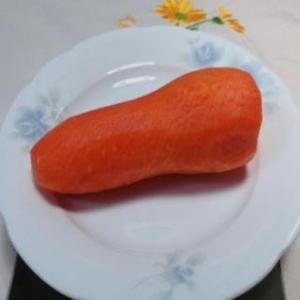carrot: (28, 60, 266, 196)
